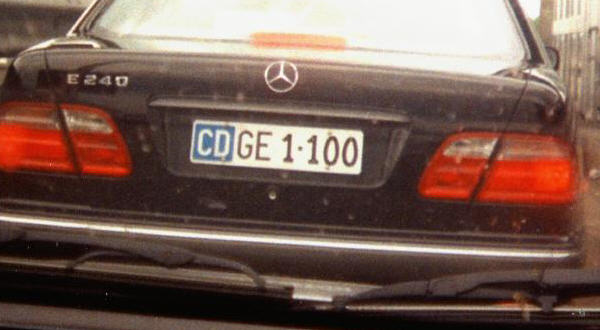license_plate: (189, 118, 365, 174)
